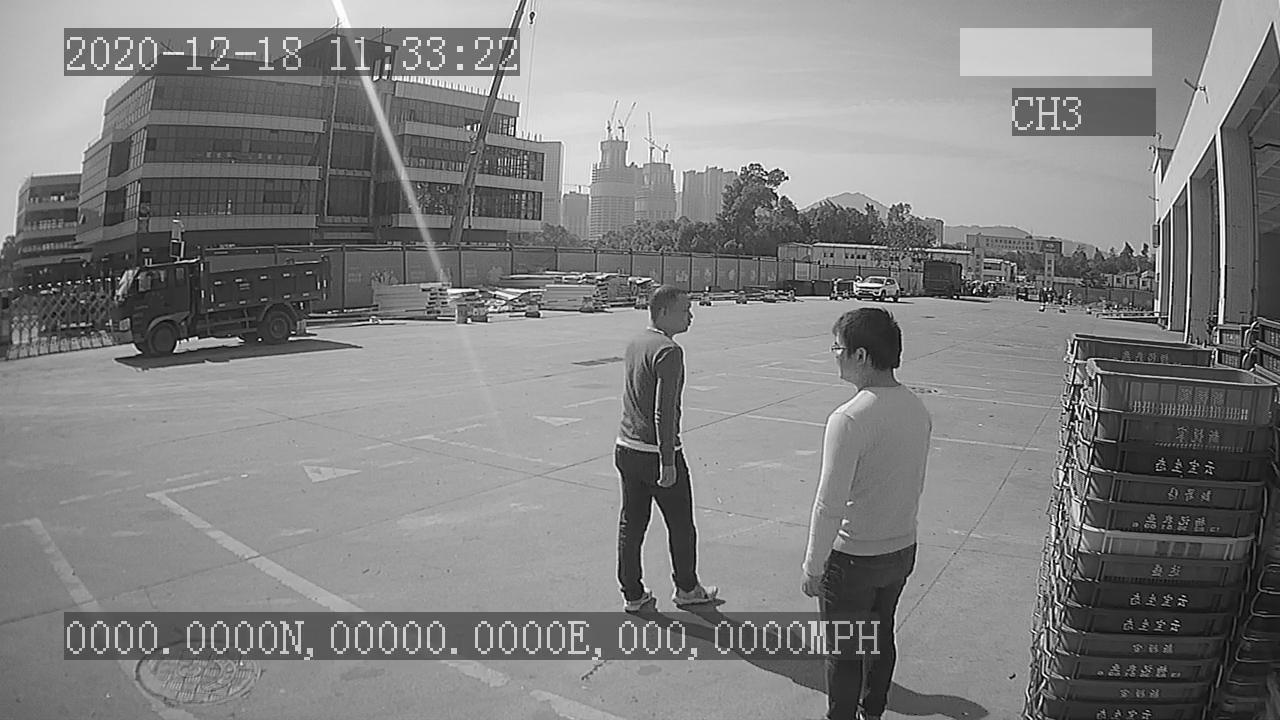person: (614, 279, 719, 612)
